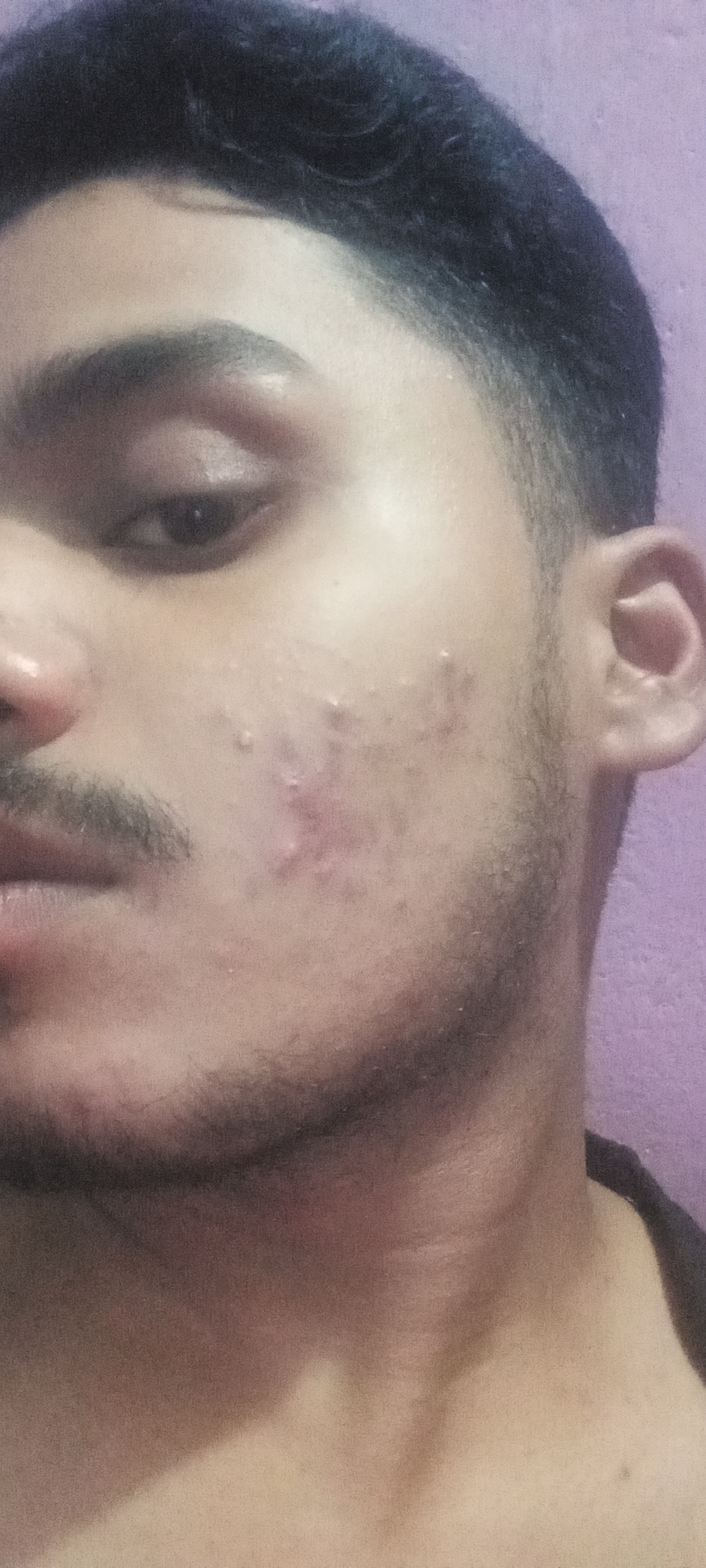closed_comedone: (427, 641, 466, 679)
nodule: (273, 837, 314, 868)
pustule: (226, 721, 260, 755)
